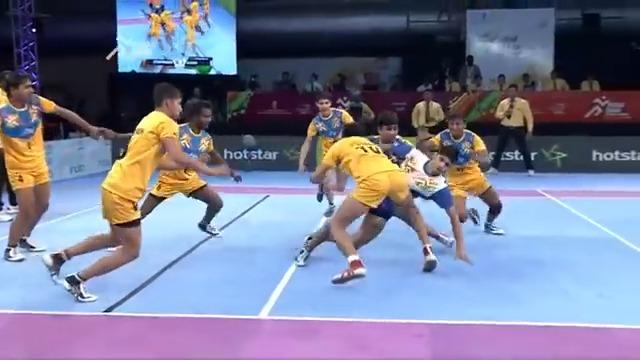Player: (41, 81, 234, 302), (0, 68, 114, 262), (364, 110, 472, 266), (138, 97, 241, 237), (424, 112, 505, 235), (297, 91, 357, 216)
Raider: (307, 134, 439, 284)
referee: (484, 83, 536, 176), (457, 53, 483, 92)
